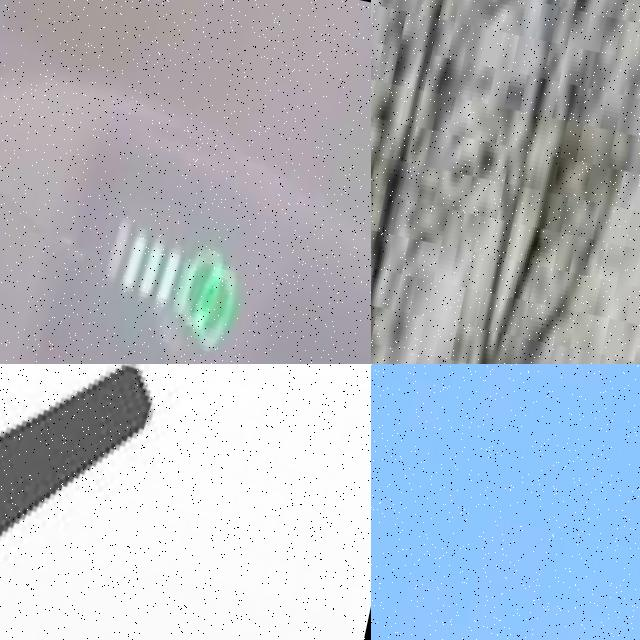drone: (0, 0, 371, 364), (0, 364, 371, 640)
